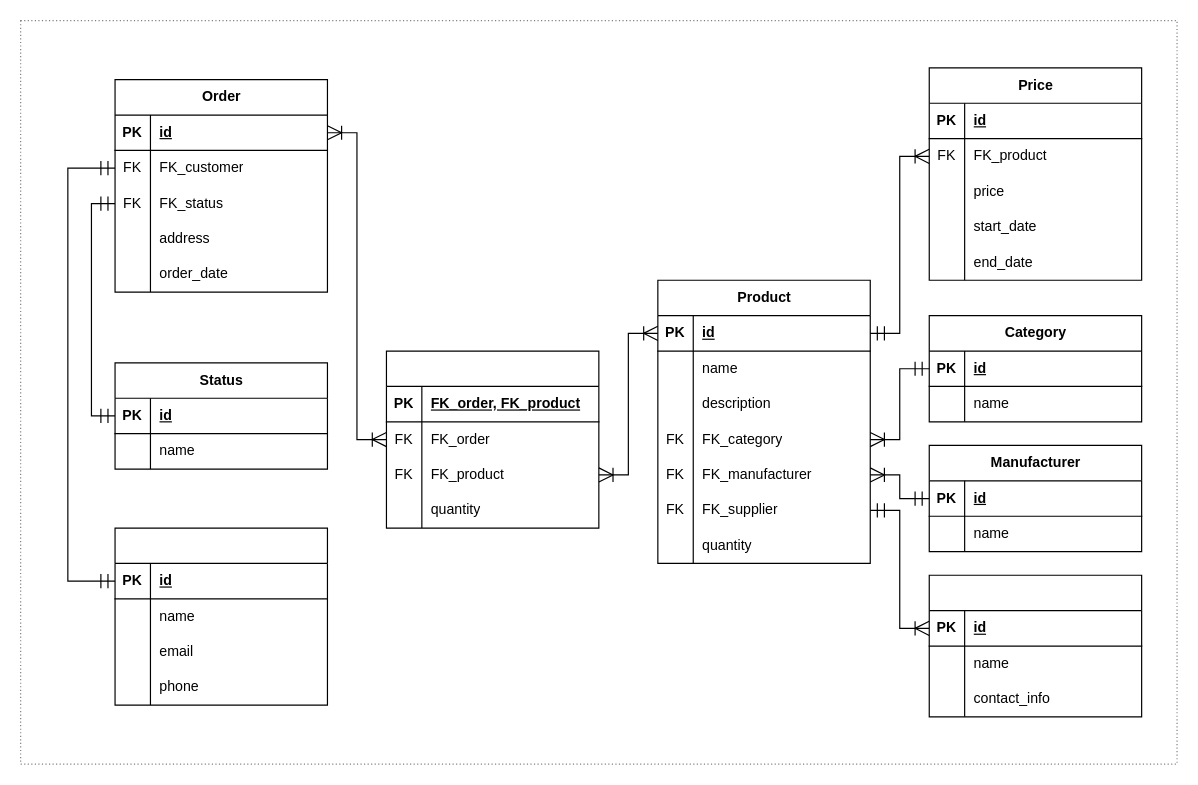
Image size: 1198x785. Some labels were removed from this diagram. The shapes that lost their labels are listed below. From the top down, each one's box as (x1, y1, x2, y2) in pixels, then its label:
(385, 350, 599, 528): Purchase
(114, 527, 327, 705): Customer
(928, 574, 1142, 717): Supplier
